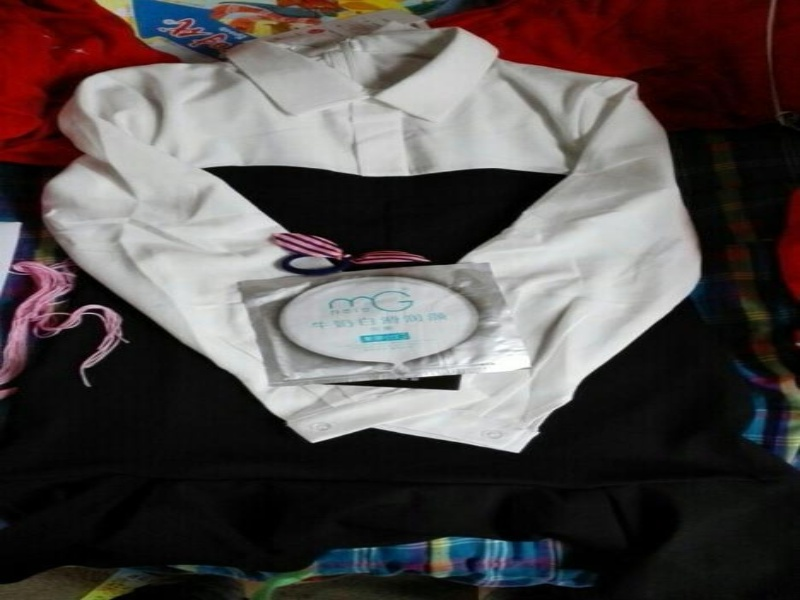long_sleeved_dress: (0, 26, 798, 599)
